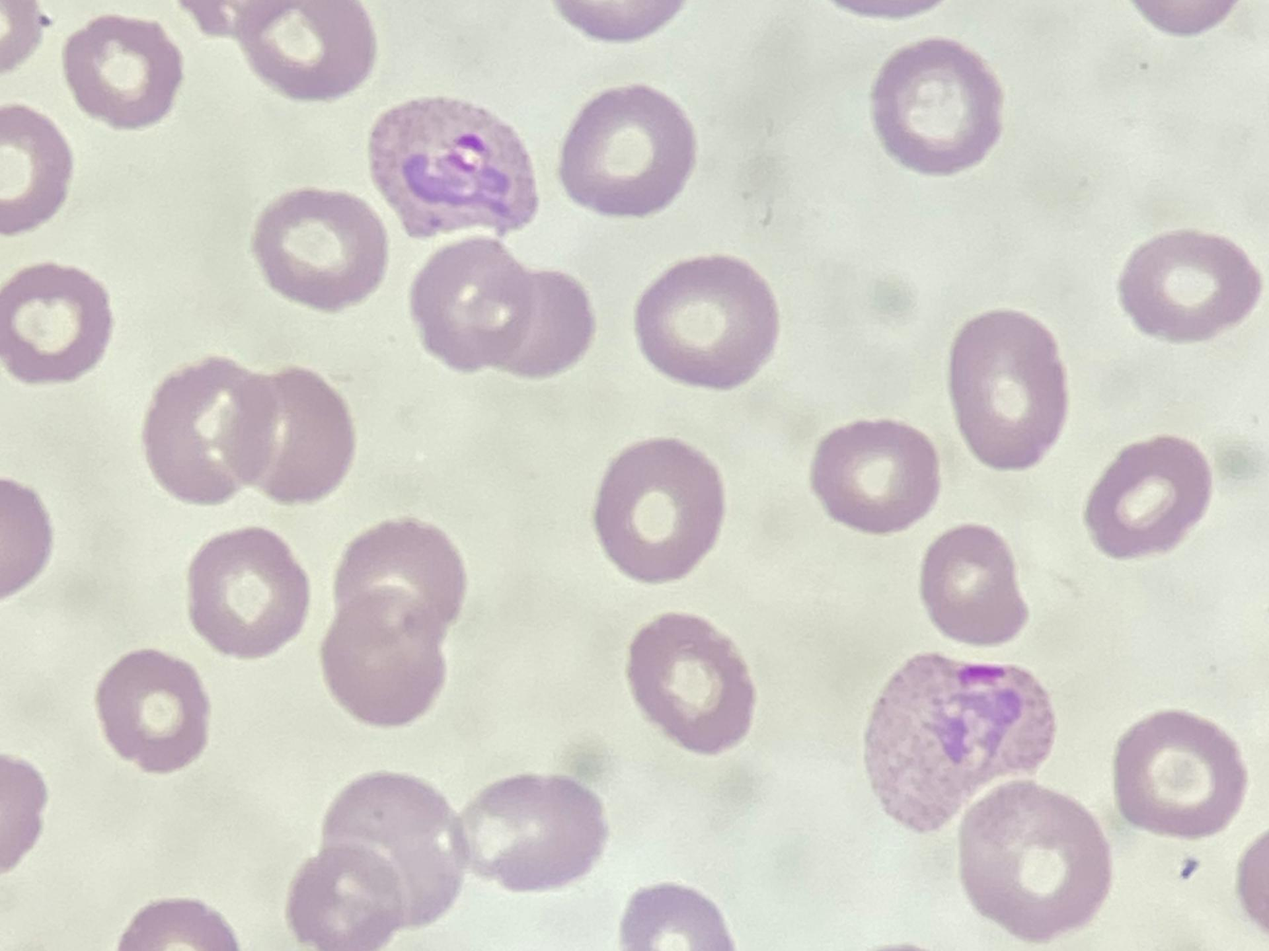Infected: (216, 118, 402, 296), (729, 694, 898, 854)
Uninfected: (159, 15, 313, 169), (800, 22, 945, 177), (988, 443, 1125, 586), (659, 60, 821, 177), (514, 194, 642, 337), (489, 564, 633, 691), (573, 739, 714, 866), (205, 483, 320, 637), (545, 370, 670, 510), (269, 779, 401, 911), (20, 106, 152, 237), (879, 636, 1017, 760), (5, 605, 155, 716), (823, 225, 948, 356), (917, 450, 1042, 575), (965, 291, 1080, 423), (59, 389, 184, 510), (742, 580, 855, 710), (1061, 175, 1175, 302), (805, 318, 931, 431), (330, 417, 455, 530), (894, 850, 1031, 951), (677, 572, 800, 679), (1087, 820, 1211, 925), (245, 304, 349, 426), (1160, 569, 1269, 685), (861, 0, 981, 103)
